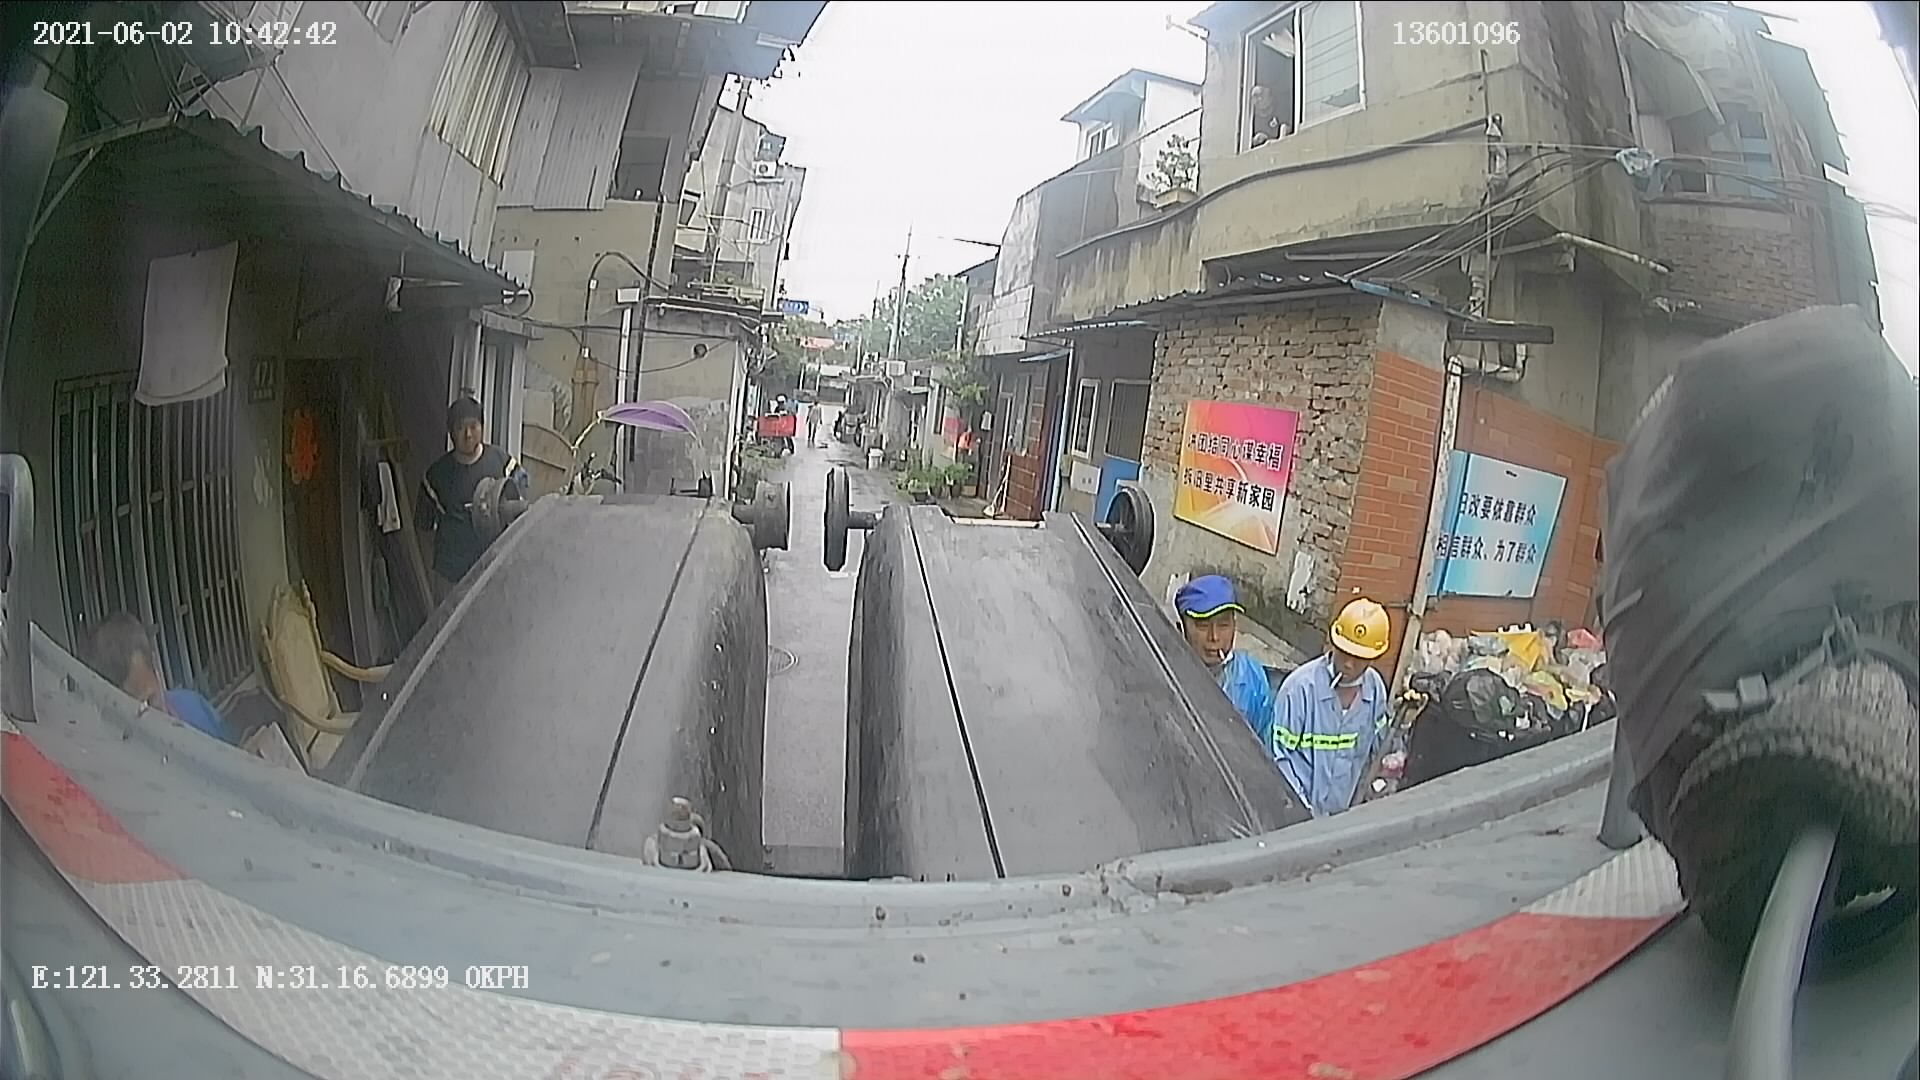Dry_garbage: (302, 434, 810, 943), (804, 456, 1288, 975)
